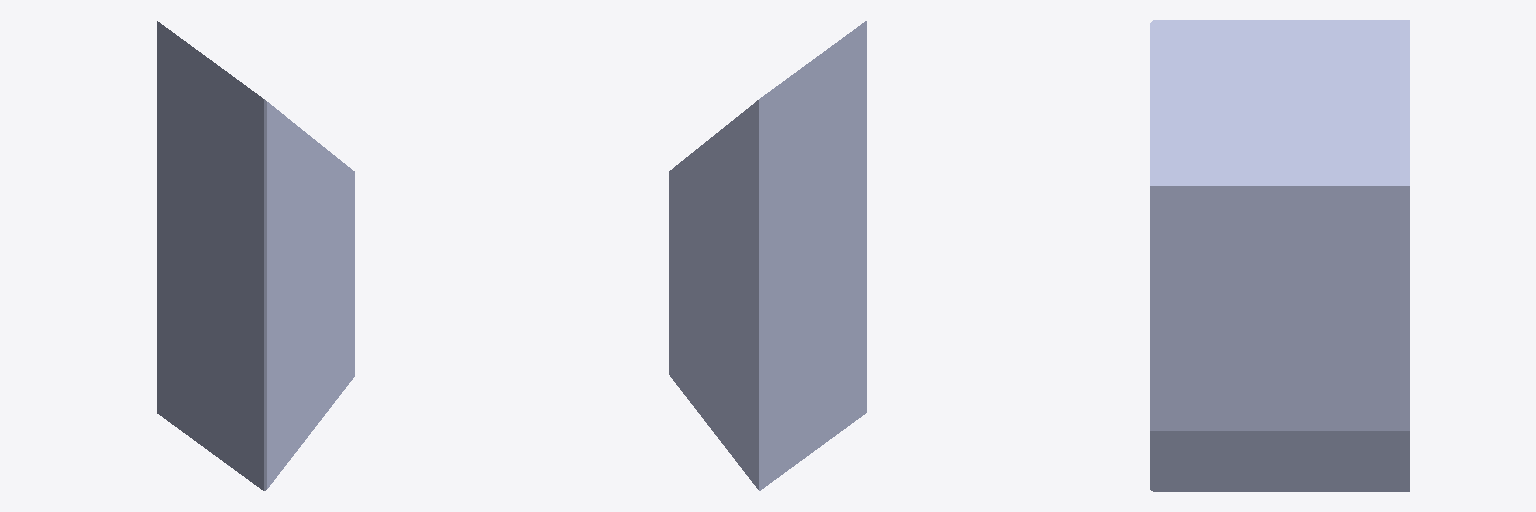
robot.urdf — hole.SLDPRT:
<?xml version="1.0" encoding="utf-8"?>
<!-- This URDF was automatically created by SolidWorks to URDF Exporter! Originally created by [author] ([email redacted]) 
     Commit Version: 1.5.1-0-g916b5db  Build Version: 1.5.7152.31018
     For more information, please see http://wiki.ros.org/sw_urdf_exporter -->
<robot
  name="hole.SLDPRT">
  <link
    name="hole">
    <inertial>
      <origin
        xyz="0.0 -0.025 0.0"
        rpy="0 0 0" />
      <mass
        value="5.0" />
      <inertia
        ixx="0.003"
        ixy="0.0"
        ixz="0.0"
        iyy="0.003"
        iyz="0.0"
        izz="0.003" />
    </inertial>
    <visual>
      <origin
        xyz="0 0 0"
        rpy="1.5707963267949 0 0" />
      <geometry>
        <mesh
          filename="../hole_stl/Hole_12.STL" />
      </geometry>
      <material
        name="stainless">
        <color
          rgba="0.79216 0.81961 0.93333 1" />
      </material>
    </visual>
    <collision>
      <origin
        xyz="0 0 0"
        rpy="1.5707963267949 0 0" />
      <geometry>
        <mesh
          filename="../hole_stl/Hole_12.STL" />
      </geometry>
    </collision>
  <gazebo>
    <static>true</static>
  </gazebo>

  </link>
</robot>

--- Render facts (derived) ---
Views: 3 orthographic renders of the robot side by side, from view 1: azimuth 30°, elevation 25°; view 2: azimuth 150°, elevation 25°; view 3: azimuth 270°, elevation 25°.
Robot: hole.SLDPRT — 1 links, 0 joints (none); root link hole; default pose: all joints at 0.
Links seen in each view (by area): view 1: hole; view 2: hole; view 3: hole.
Boxes of the visible links, left/top/right/bottom form: hole: left=157, top=21, right=354, bottom=490; hole: left=669, top=21, right=866, bottom=490; hole: left=1150, top=20, right=1409, bottom=491.
Size in the robot's own frame: 0.024 by 0.05 by 0.1 metres.
1 mesh visuals loaded from 1 distinct referenced files (1 binary STL).